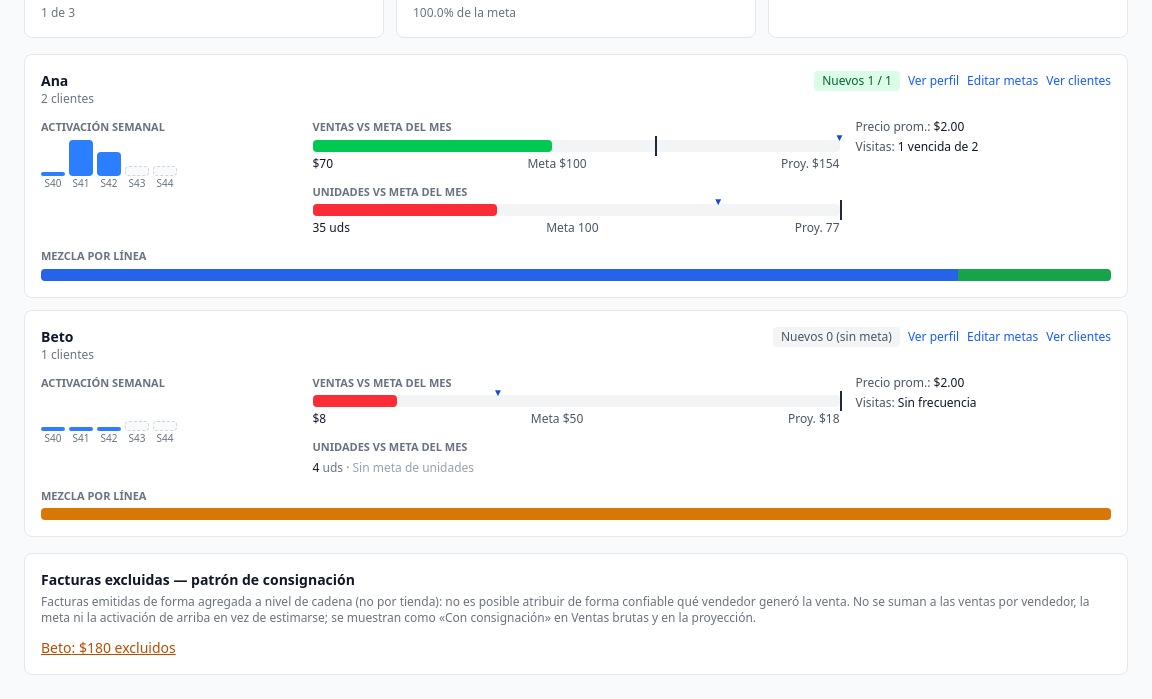
TabSeguimiento review fixes › a stale excluded-invoices response never replaces the latest one
(page scrolled)
Click the button "Beto: $180 excluidos" at (108, 648), box [41,638,176,658]
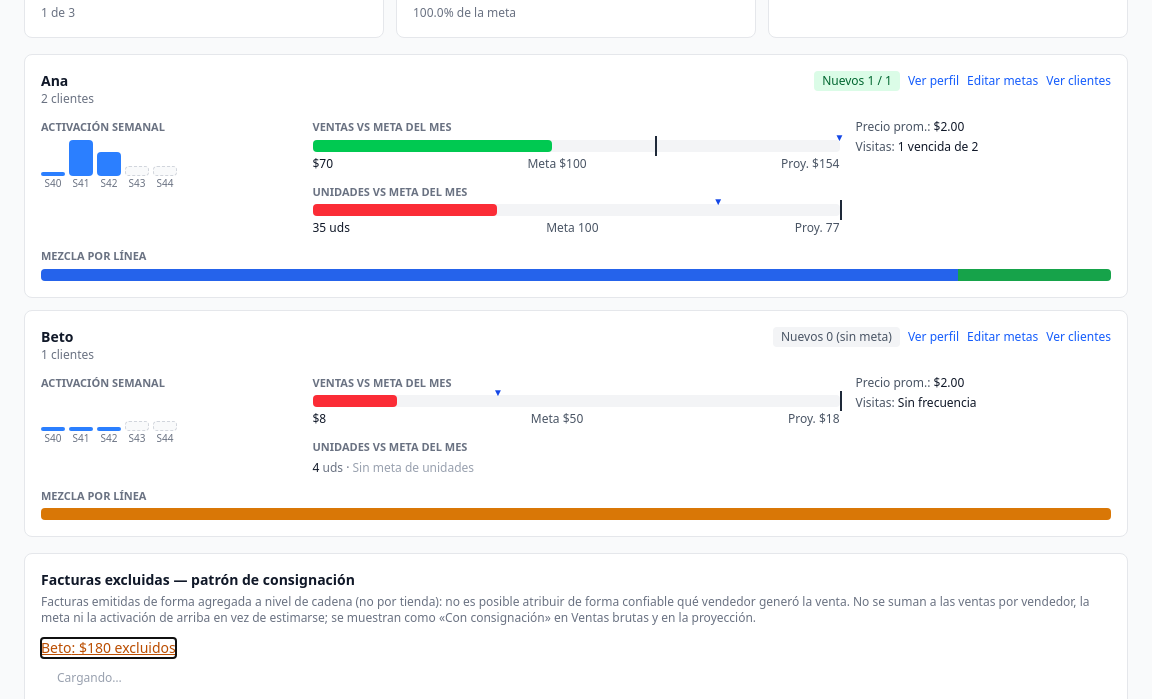
Click the button "Beto: $180 excluidos" at (108, 648), box [41,638,176,658]
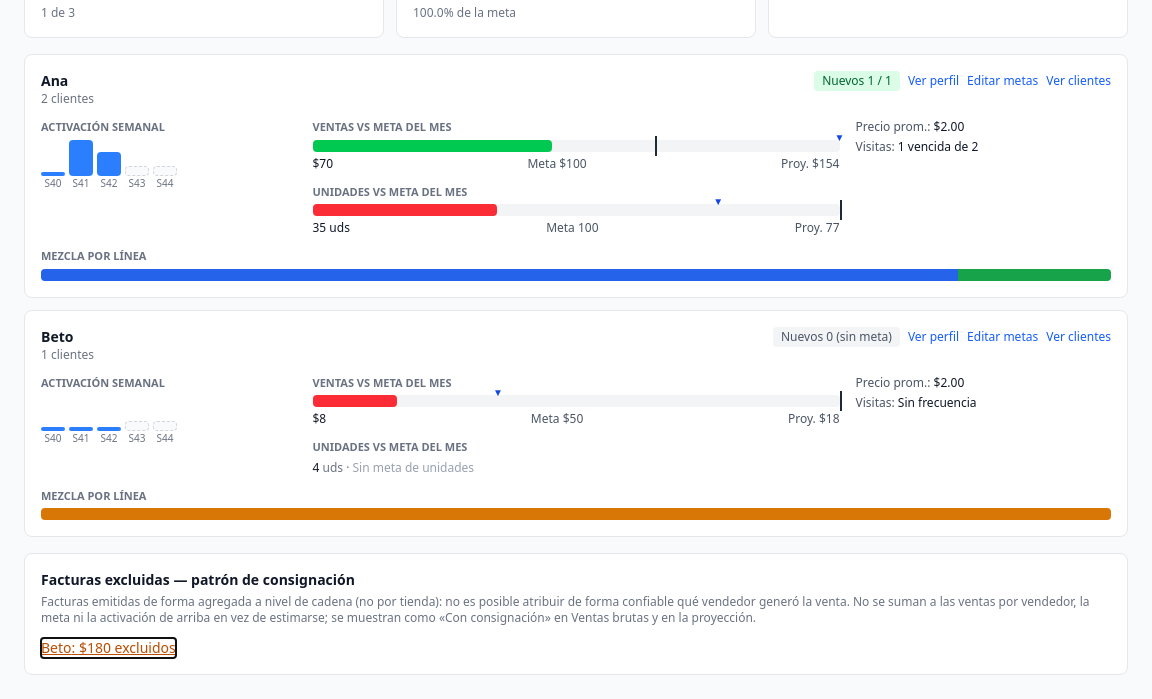
Click the button "Beto: $180 excluidos" at (108, 648), box [41,638,176,658]
(page scrolled)
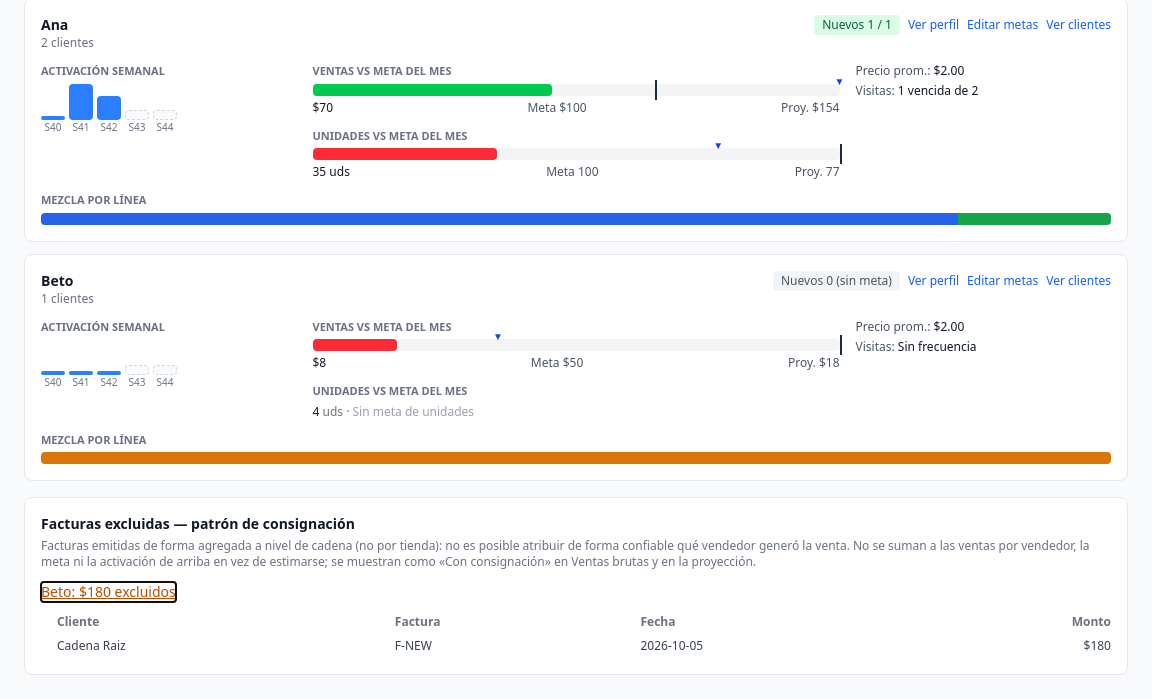
Result: the text "F-NEW" is shown at [395,634,640,658]
